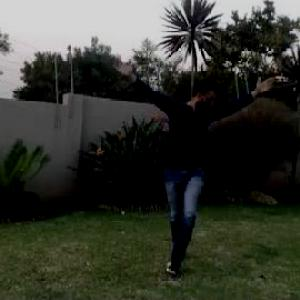takeoff: (119, 62, 279, 274)
